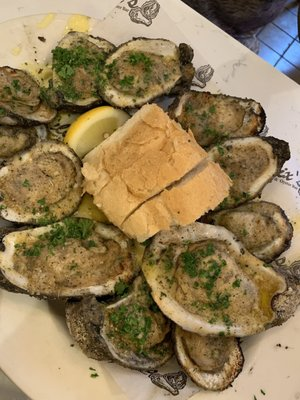curry: (47, 31, 113, 109)
